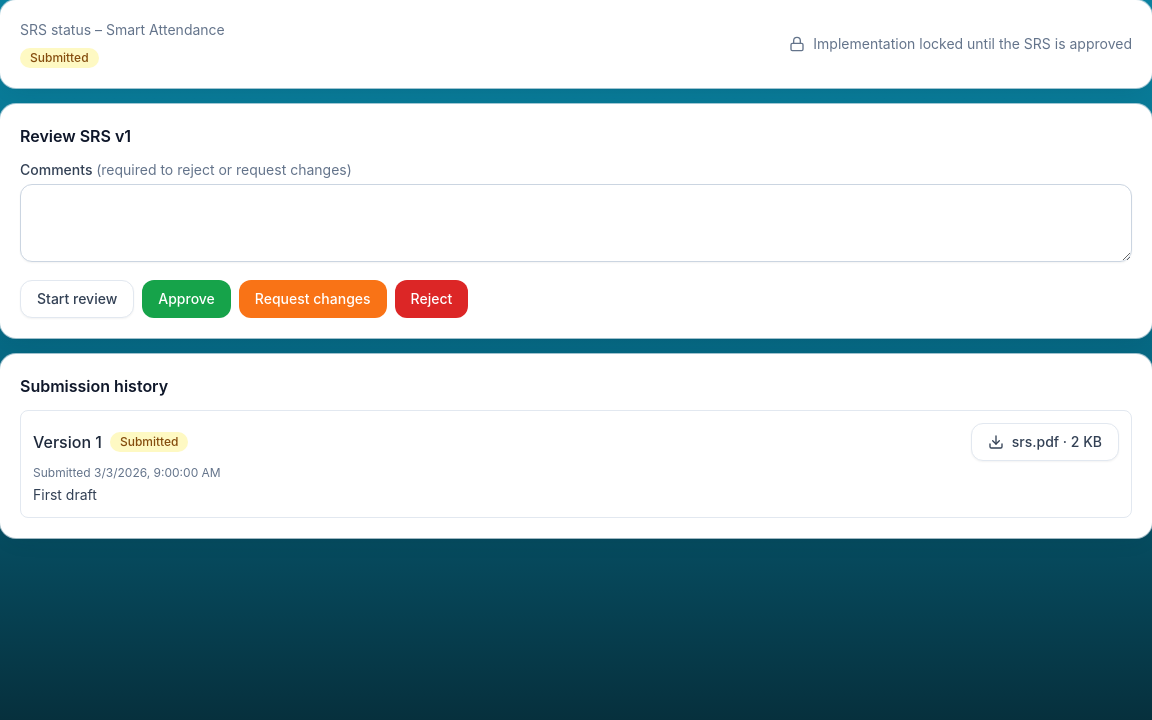
it: SRS panel – mentor review › requires comments to reject or request changes, but not to approve
Click the button "Request changes".
click(313, 299)  # box [239, 280, 387, 318]
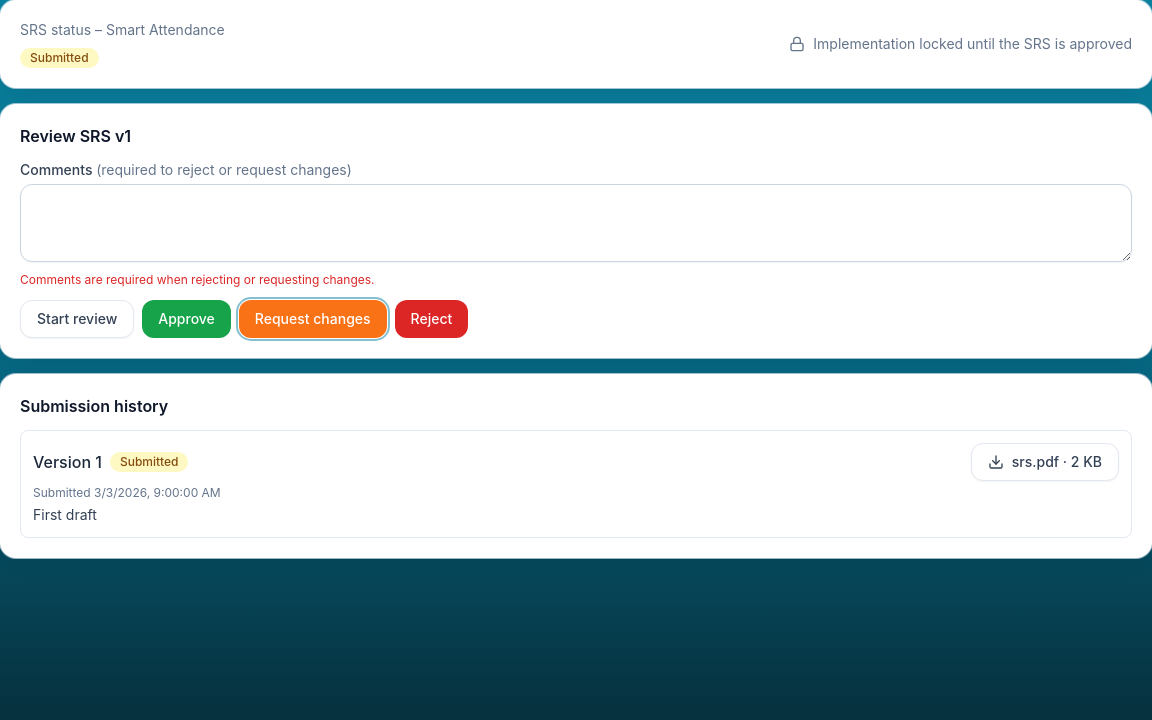
Expected: the text "Comments are required when rejecting or requesting changes." is shown, [20, 272, 375, 287]
Click the button "Reject".
click(431, 319)  # box [395, 300, 468, 338]
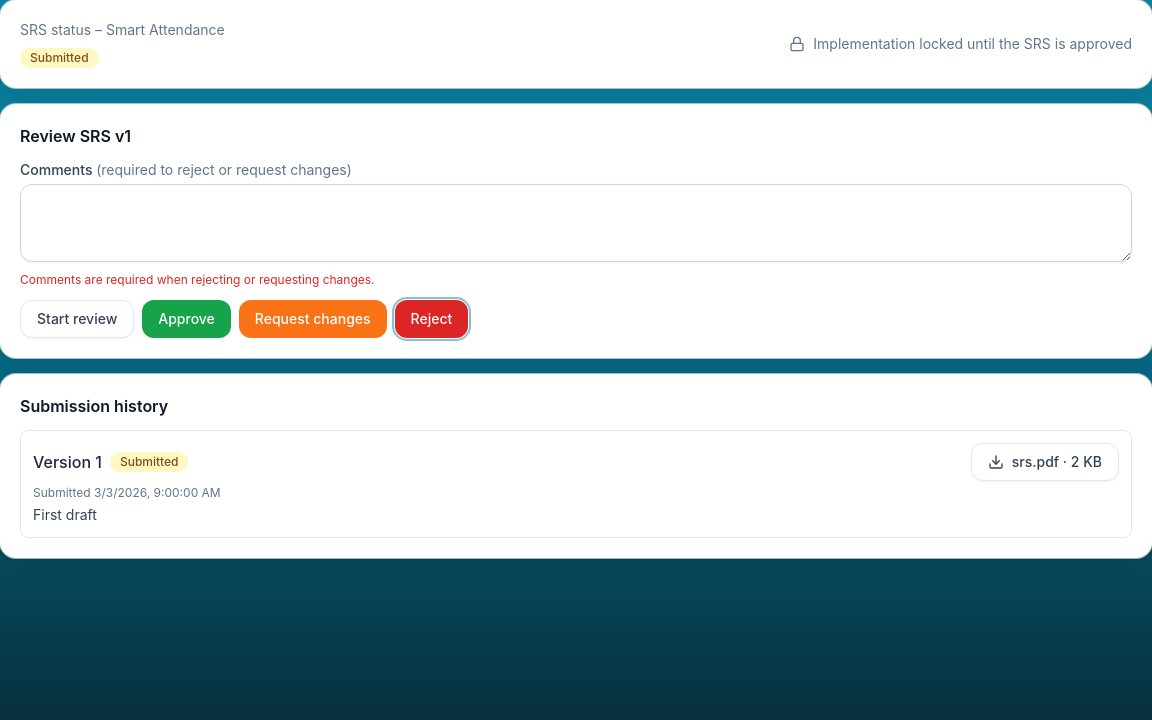
Click the button "Approve".
click(187, 319)  # box [142, 300, 231, 338]
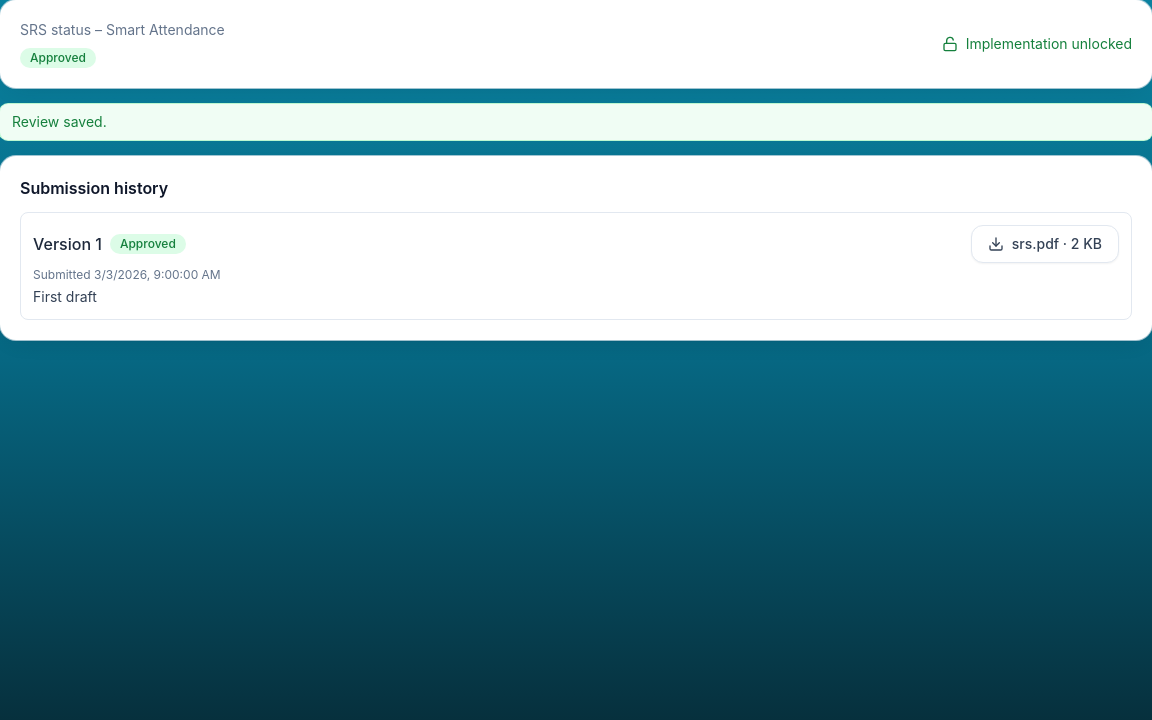
Expected: the text "Implementation unlocked" is shown, [942, 34, 1132, 54]
